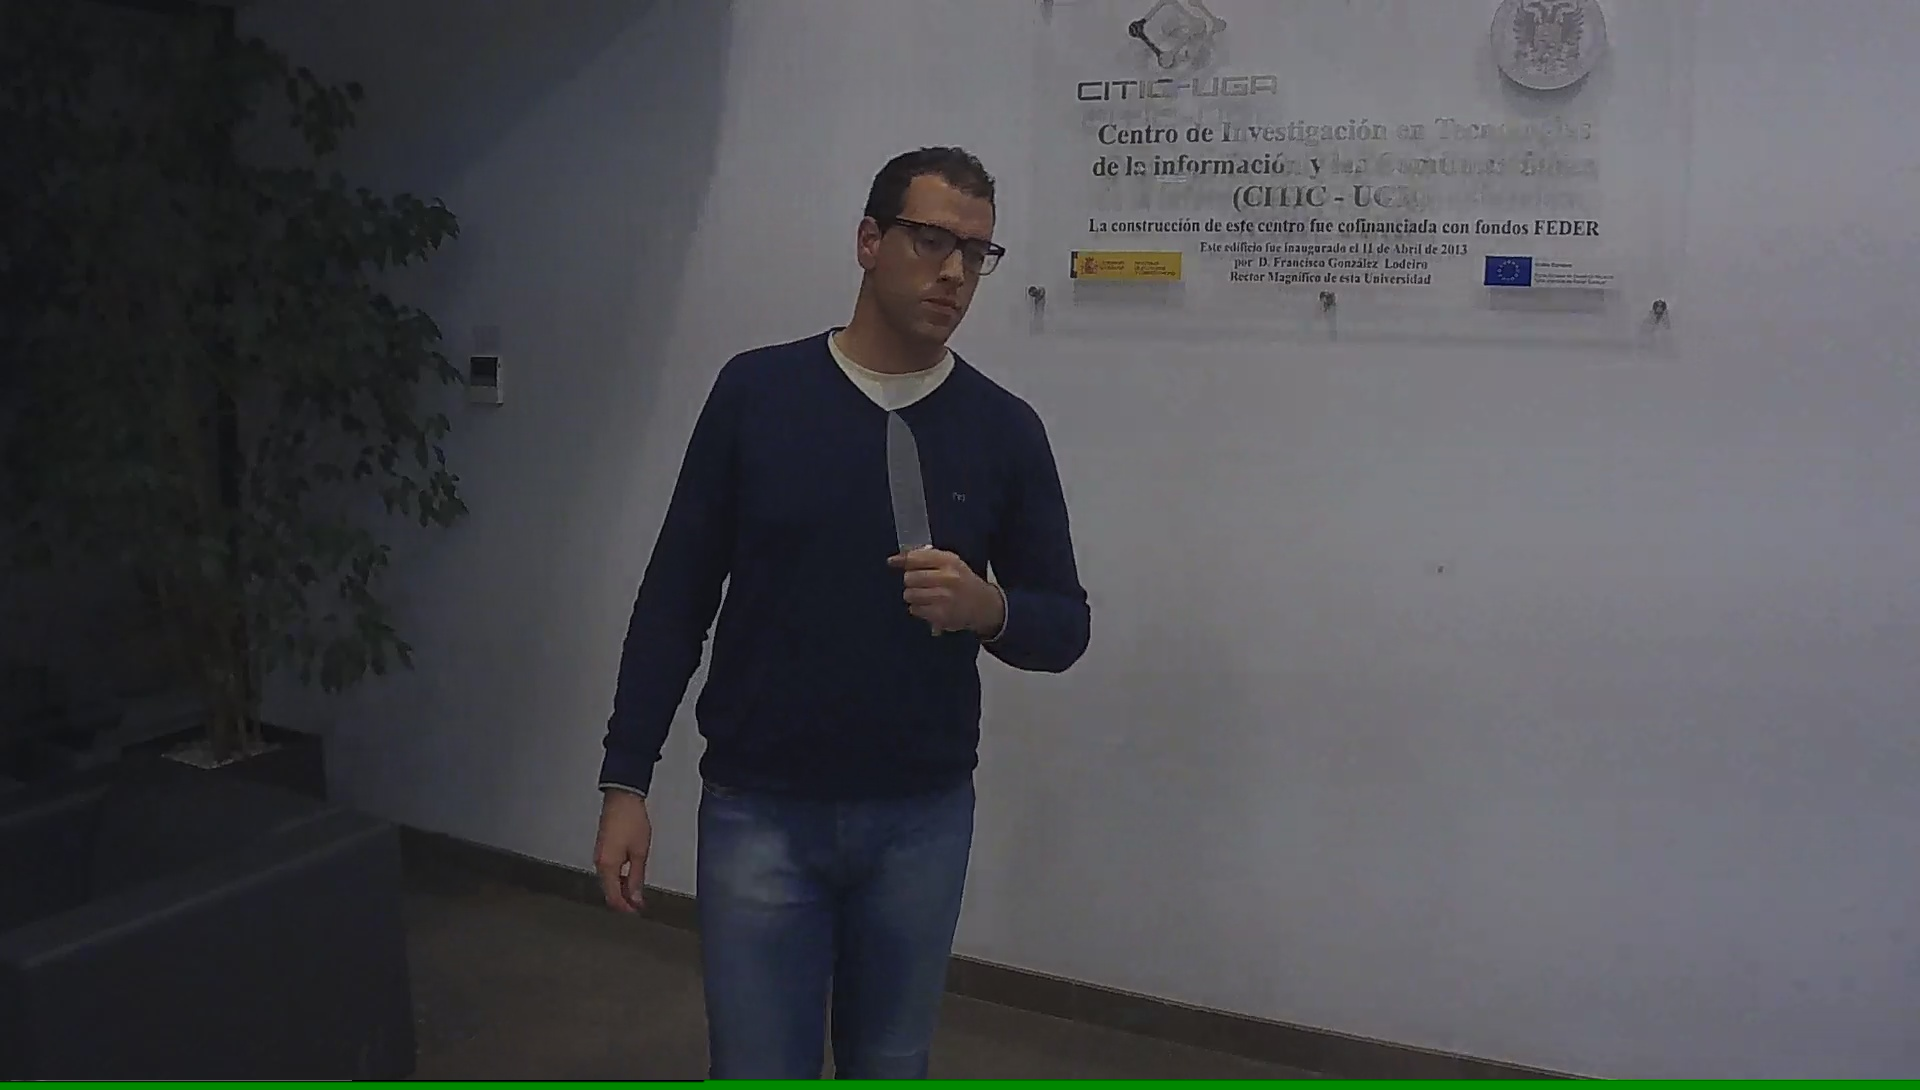knife: (870, 402, 978, 643)
